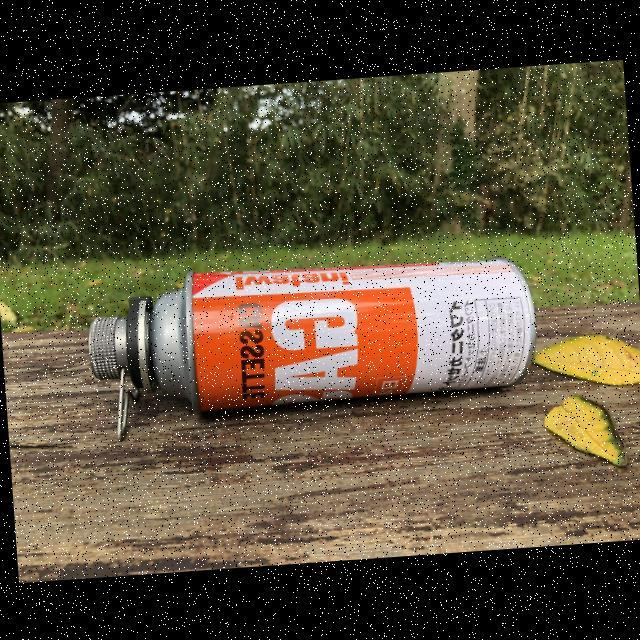chemical_spray_can: (40, 234, 572, 502)
